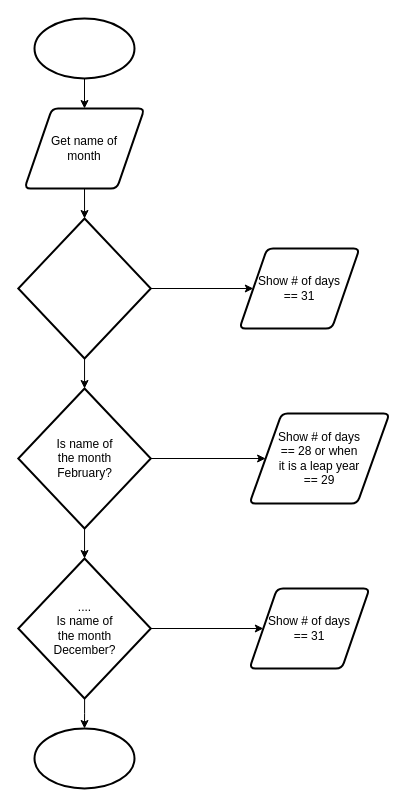
Image size: 408x806. Some labels were removed from this diagram. Here are the shapes that lost their labels. From the top down, the centre of each, then its label:
[84,48]: Start
[84,288]: Is name of the month January?
[84,758]: Stop
